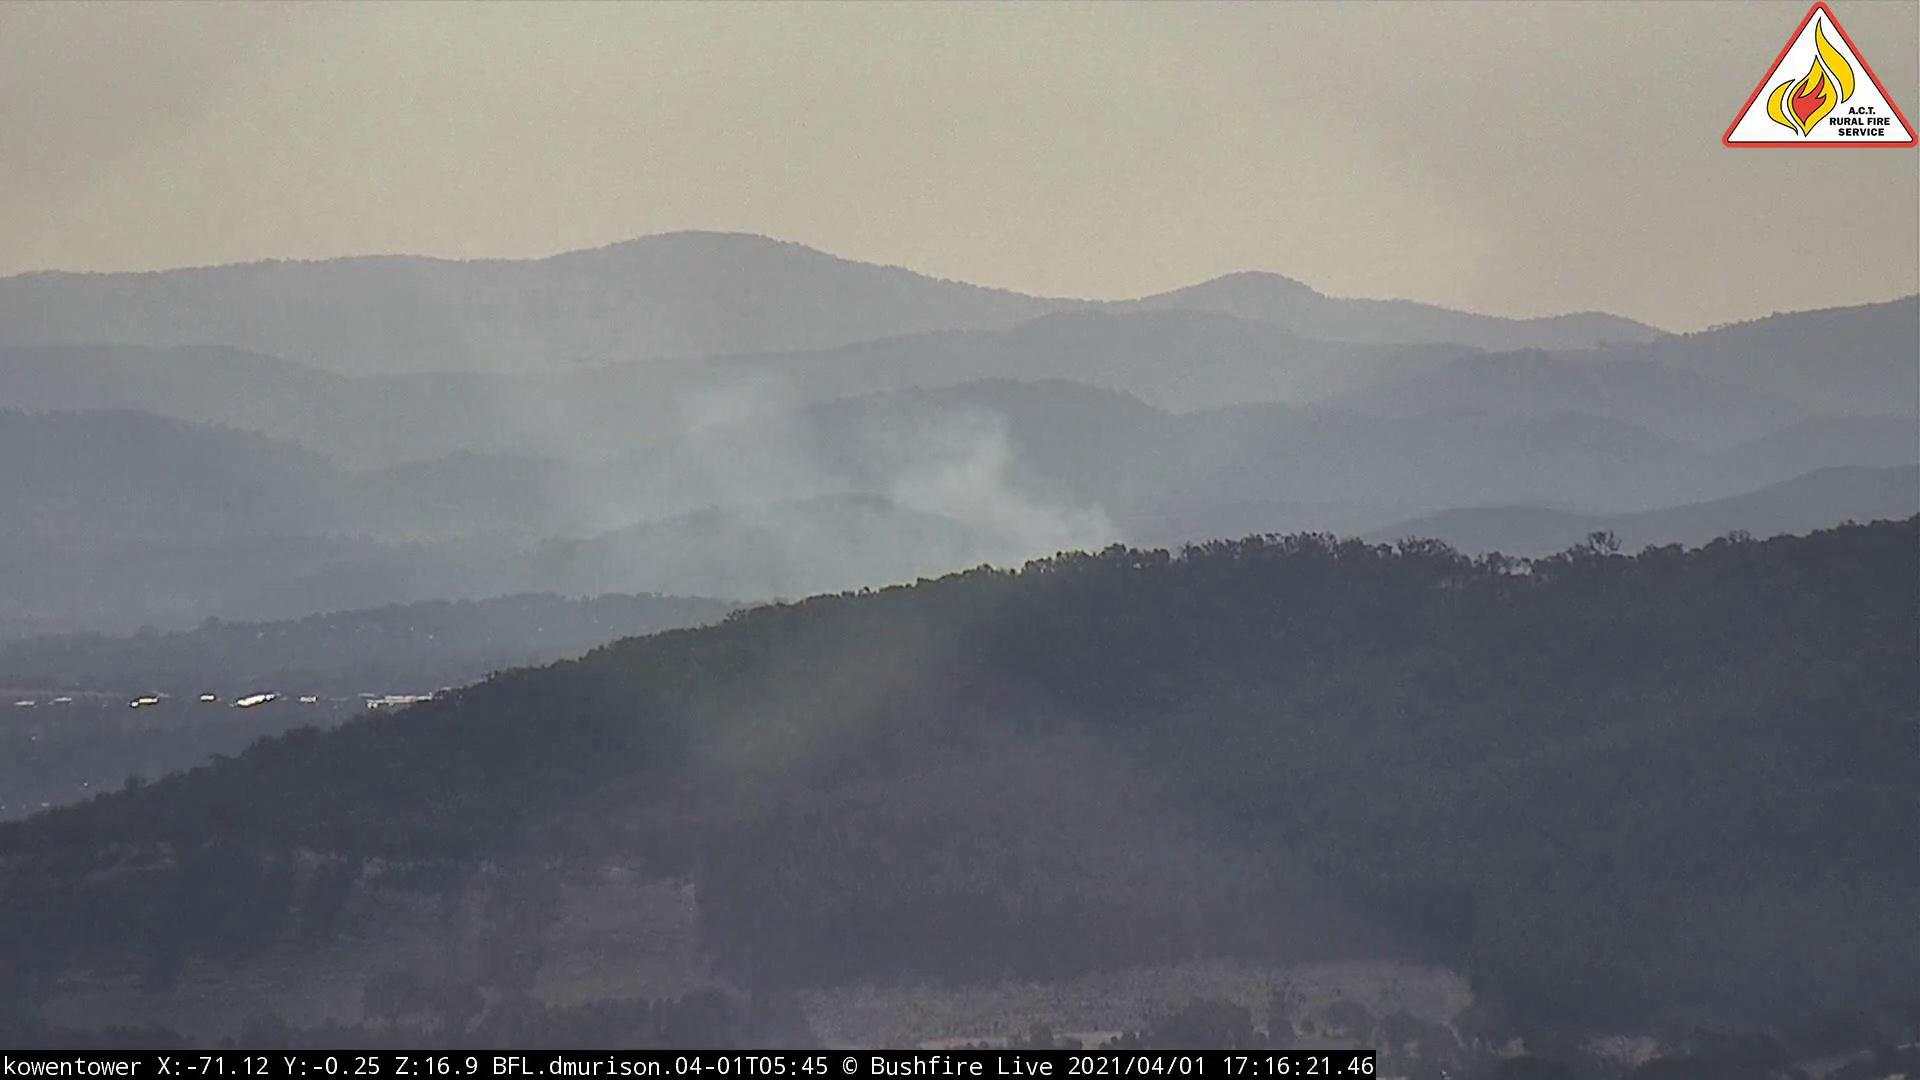Smoke: (512, 295, 1160, 636)
